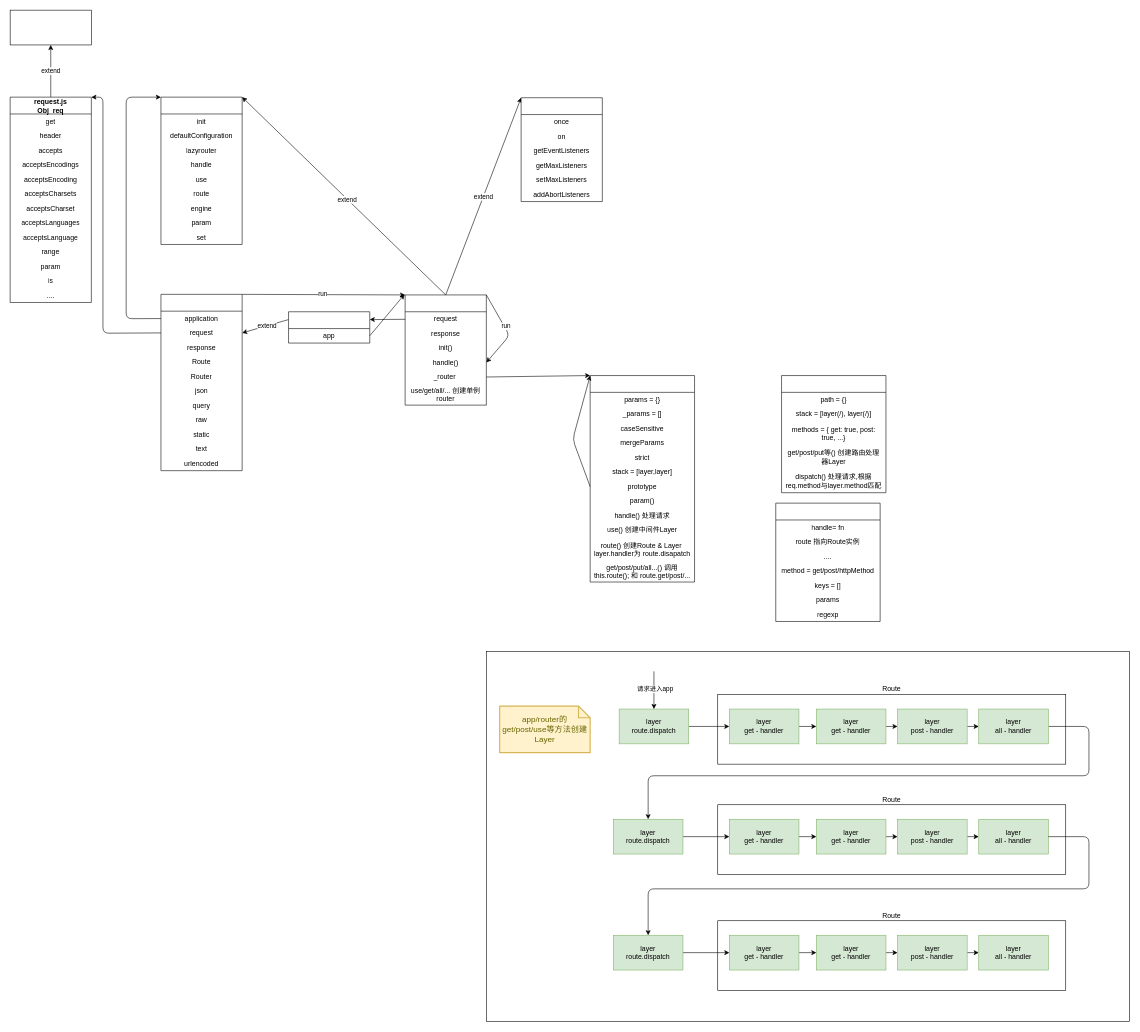
The diagram is 1140 pixels wide and 1032 high, and some of its shapes have lost their labels. The shapes that lost their labels are listed below. From the top down, each one's box as (x1, y1, x2, y2) in pixels, then its label:
(10, 10, 91, 45): http.IncomingMessage
(521, 97, 602, 202): EventEmitter
(160, 97, 242, 244): application.js Obj app
(288, 311, 370, 343): Obj app.request
(405, 294, 486, 405): Fun app
(160, 294, 242, 471): express.js Fun createApplication
(781, 375, 886, 493): Fun Route(path)
(590, 375, 695, 582): Fun Router 执行router.handle(req,res,next)
(775, 503, 880, 621): Fun Layer(path,options, dn) 处理函数 / 中间件
(486, 651, 1130, 1022): 请求处理
